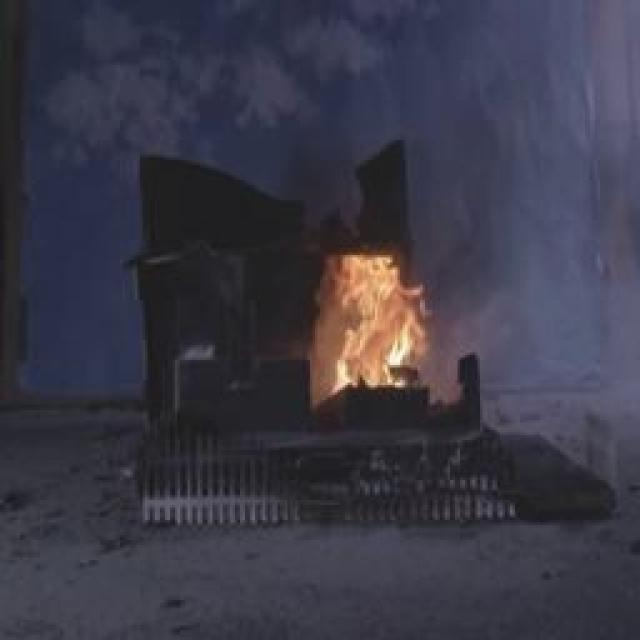fire: (298, 219, 444, 416)
